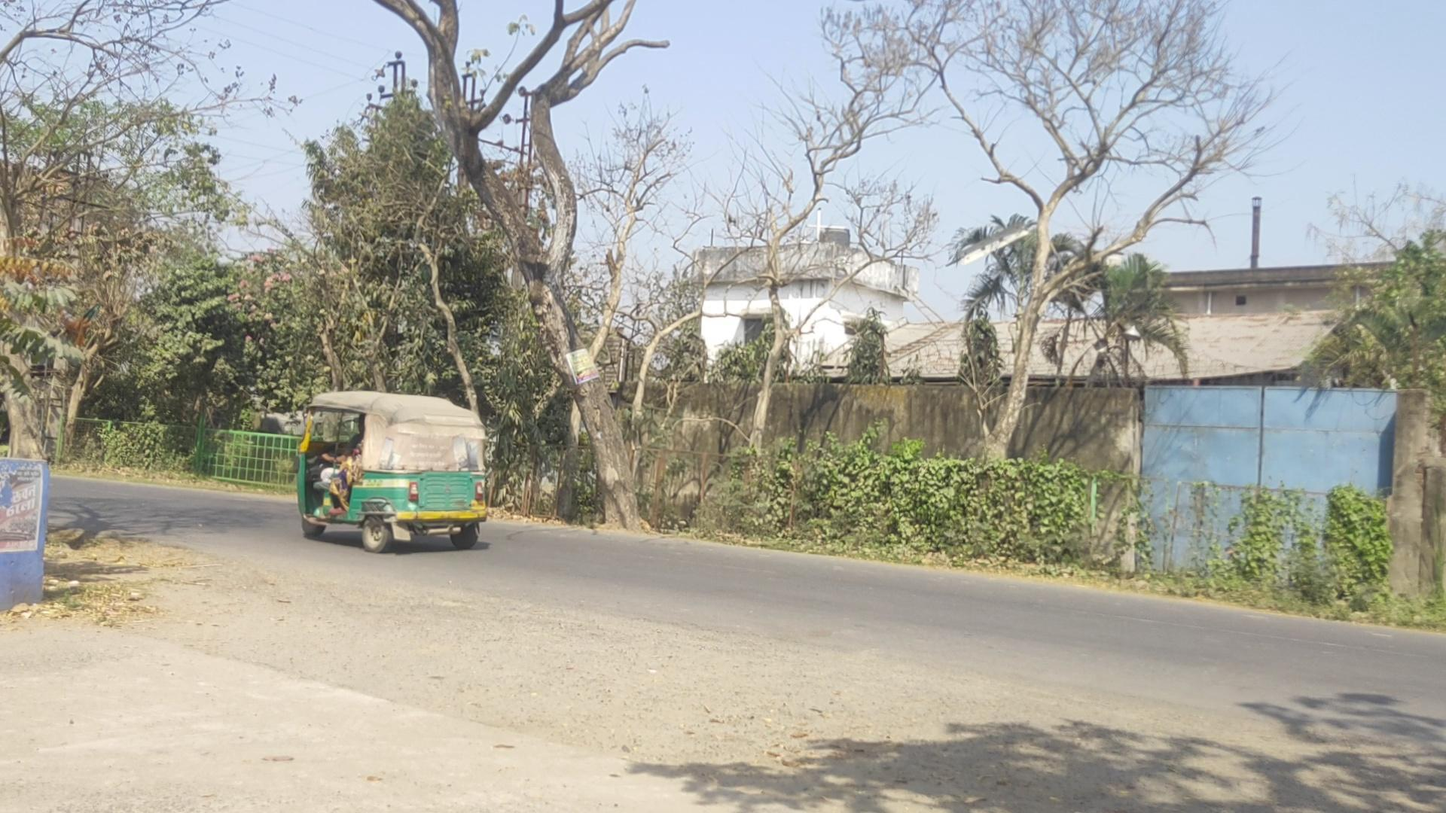Auto: (294, 388, 488, 554)
